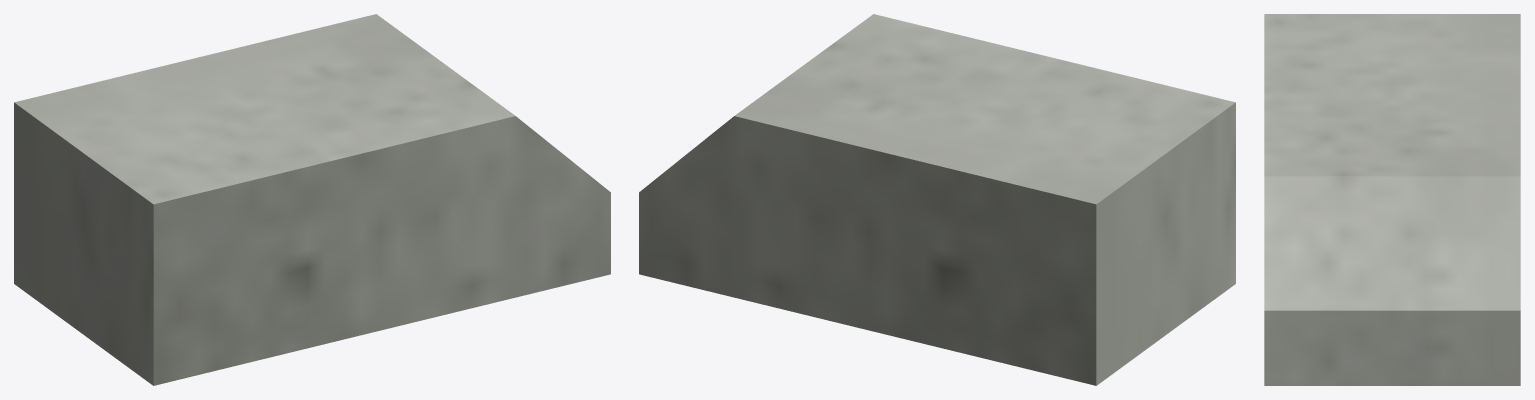
File: FB_ChengZhenJieDao_Dibiao01.FBX
The picture shows the model from 3 angles, left to right: view 1: azimuth 30°, elevation 25°; view 2: azimuth 150°, elevation 25°; view 3: azimuth 270°, elevation 25°; orthographic projection. The views are drawn at different scales.
Visible parts, largest first — view 1: Object02; view 2: Object02; view 3: Object02.
Boxes of the visible parts, x1,y1,x2,y2 form: Object02: (14, 14, 610, 385); Object02: (639, 14, 1235, 385); Object02: (1264, 14, 1520, 385).
Size of the model in its own units: 1.97 by 0.7479 by 1.04.
